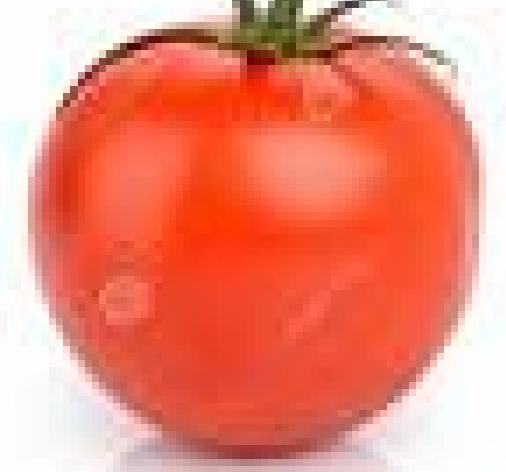tomato: (29, 17, 485, 456)
